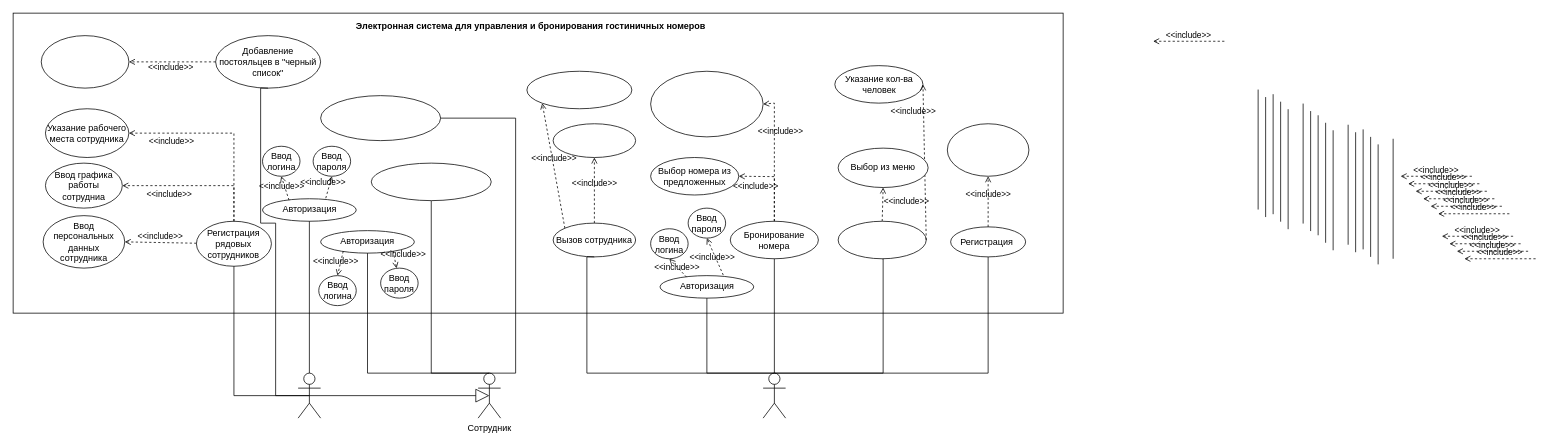
The diagram is 1555 pixels wide and 447 high, and some of its shapes have lost their labels. Here are the shapes that lost their labels. From the top down, the centre of each, then its label:
[84,61]: Ввод персональных данных постояльца
[579,89]: Составление описания проблемы
[706,103]: Ввод необходимой информации(кол-во людей, время заселения-выселения)
[380,118]: Отправка уведомления постояльцу о выполнении
[594,140]: Выбор сотрудника
[988,149]: Ввод персональных данных
[430,181]: Получение запроса от постояльца
[881,239]: Заказ в ресторане
[309,395]: Менеджер
[774,395]: Постоялец
